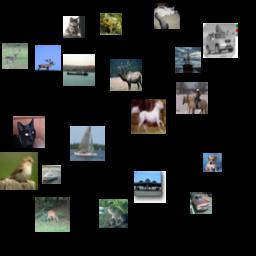airplane: (134, 171, 166, 203)
automobile: (203, 23, 238, 58), (190, 192, 212, 214)
bird: (0, 152, 38, 190)
cat: (13, 116, 45, 148), (154, 3, 180, 29), (63, 16, 85, 38)
deer: (35, 197, 70, 232), (110, 59, 142, 91), (2, 43, 28, 69), (35, 45, 61, 71)
dog: (203, 153, 222, 172)
frog: (99, 199, 128, 228), (100, 13, 122, 35)
ship: (70, 126, 105, 161), (63, 54, 95, 86), (175, 47, 201, 73), (42, 165, 61, 184)
